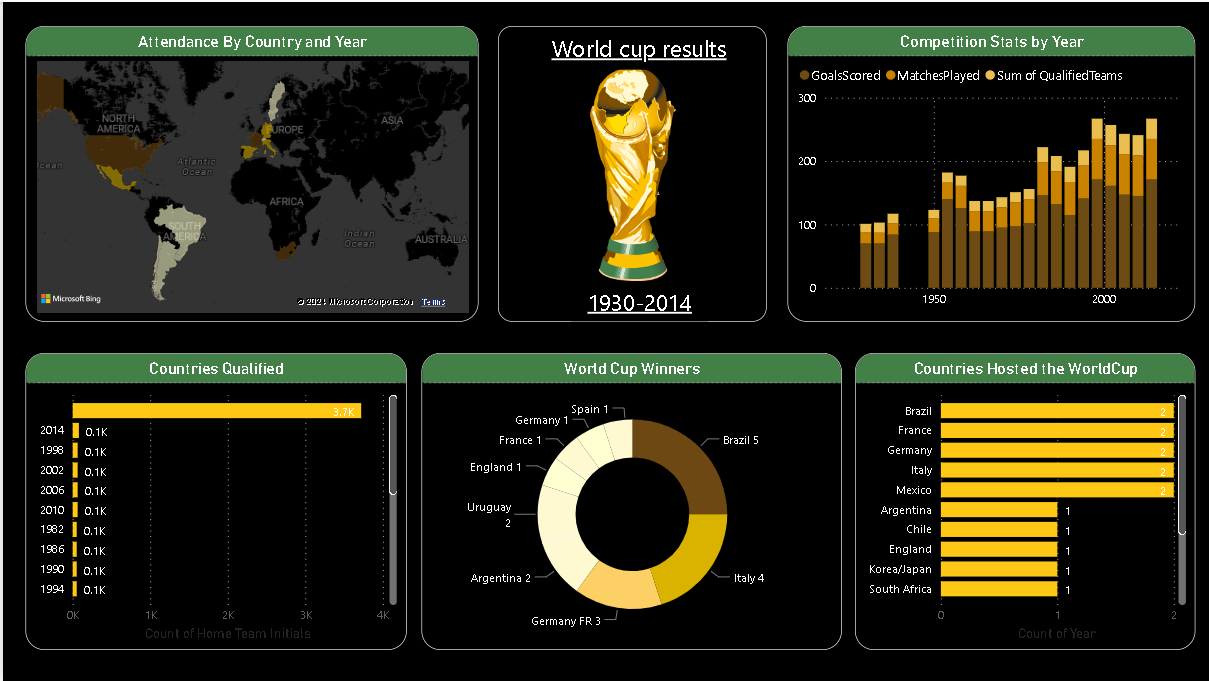

The page's visual inventory and layout, read from the dashboard file:
{"tool":"powerbi","page":{"name":"Page 1","canvas":[1280,720],"ordinal":0},"visuals":[{"type":"image","box":[524.5,25.4,284.5,313.1],"z":0},{"type":"textbox","box":[556.3,27,235.2,44.5],"z":1000},{"type":"textbox","box":[602.4,295.6,144.6,42.9],"z":2000},{"type":"columnChart","title":"Competition Stats by Year","fields":{"Category":["WorldCups.Year"],"Y":["Sum(WorldCups.GoalsScored)","Sum(WorldCups.MatchesPlayed)","Sum(WorldCups.QualifiedTeams)"]},"box":[831.3,25.4,432.3,313.1],"z":3000},{"type":"donutChart","title":"World Cup Winners","fields":{"Category":["WorldCups.Winner"],"Y":["CountNonNull(WorldCups.Winner)"]},"box":[443.4,371.9,445,314.7],"z":4000},{"type":"barChart","title":"Countries Qualified","fields":{"Category":["WorldCupMatches (1).Year"],"Y":["CountNonNull(WorldCupMatches (1).Home Team Initials)"]},"box":[23.8,371.9,403.7,314.7],"z":5000},{"type":"barChart","title":"Countries Hosted the WorldCup","fields":{"Category":["WorldCups.Country"],"Y":["CountNonNull(WorldCups.Year)"]},"box":[902.8,371.9,360.8,314.7],"z":6000},{"type":"filledMap","title":"Attendance By Country and Year","fields":{"Category":["WorldCups.Country"],"Series":["WorldCups.Attendance"]},"box":[23.8,25.4,480,313.1],"z":7000}]}

Visuals, with their boxes in screenshot pixels (x1, y1, x2, y2), scaled from the page's 1280x720 canvas onto the 1209x681 screenshot:
image: bbox(495, 24, 764, 320)
textbox: bbox(525, 26, 748, 68)
textbox: bbox(569, 280, 706, 320)
"Competition Stats by Year" columnChart: bbox(785, 24, 1194, 320)
"World Cup Winners" donutChart: bbox(419, 352, 839, 649)
"Countries Qualified" barChart: bbox(22, 352, 404, 649)
"Countries Hosted the WorldCup" barChart: bbox(853, 352, 1194, 649)
"Attendance By Country and Year" filledMap: bbox(22, 24, 476, 320)
